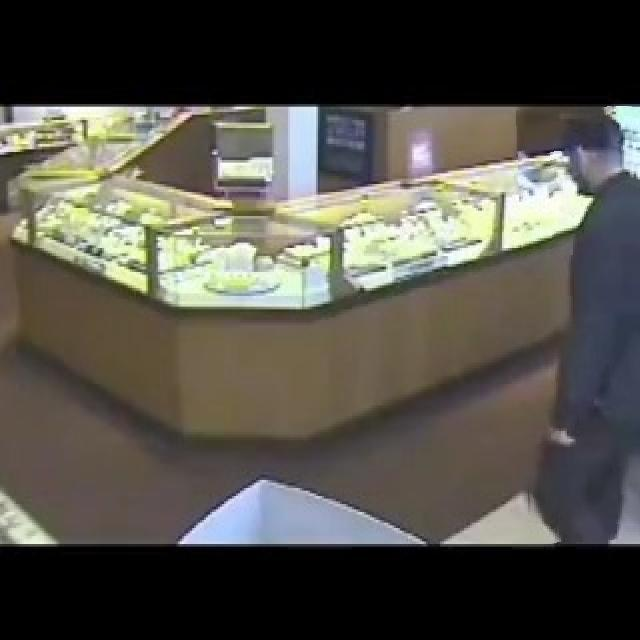Normal: (520, 107, 640, 542)
